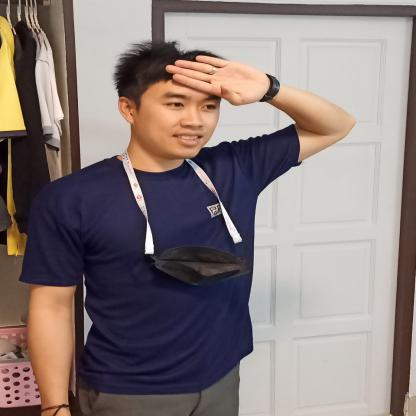Sick: (158, 46, 364, 167)
